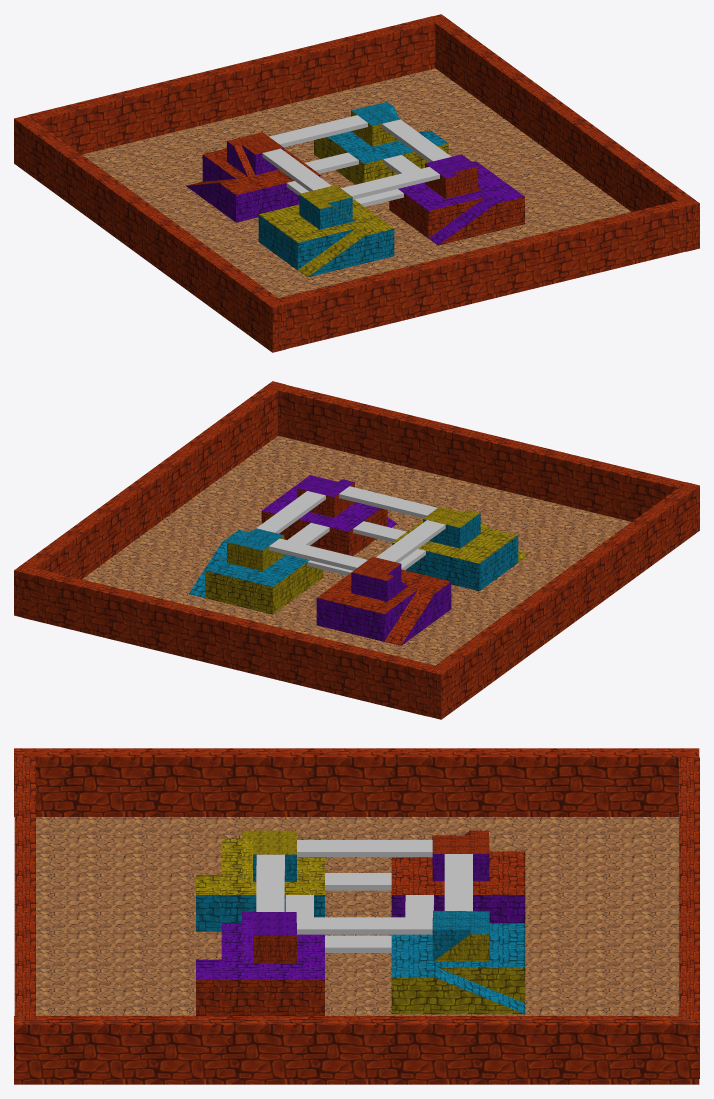
The model's file is fort.FBX.
3 views of the same model, one above another, from view 1: azimuth 30°, elevation 25°; view 2: azimuth 150°, elevation 25°; view 3: azimuth 270°, elevation 25° (orthographic). The views are drawn at different scales.
Visible parts, largest first — view 1: Plane001, Box025, Box026, Box028, Box027, Box016, Box014, Box001, Box021, Box015, Box013, Box002 (+6 smaller); view 2: Plane001, Box026, Box025, Box028, Box027, Box001, Box021, Box016, Box014, Box002, Box020, Box015 (+7 smaller); view 3: Plane001, Box027, Box028, Box021, Box014, Box025, Box026, Box001, Box016, Box020, Box013, Box018 (+9 smaller).
Boxes of the visible parts, box(x1,y1,x2,y2) form: Plane001: box(82, 68, 630, 298); Box025: box(278, 199, 690, 348); Box026: box(28, 16, 439, 154); Box028: box(14, 115, 286, 352); Box027: box(429, 14, 699, 251); Box016: box(258, 199, 394, 277); Box014: box(389, 161, 524, 245); Box001: box(186, 148, 320, 222); Box021: box(314, 131, 448, 184); Box015: box(299, 185, 355, 229); Box013: box(425, 154, 481, 198); Box002: box(227, 132, 283, 176); Plane001: box(82, 435, 630, 665); Box026: box(22, 567, 434, 716); Box025: box(273, 383, 685, 521); Box028: box(427, 482, 699, 719); Box027: box(14, 381, 285, 617); Box001: box(316, 569, 451, 645); Box021: box(189, 530, 323, 614); Box016: box(392, 507, 527, 591); Box014: box(261, 475, 396, 556); Box002: box(351, 556, 407, 601); Box020: box(227, 528, 284, 571); Box015: box(423, 507, 480, 548); Plane001: box(36, 817, 678, 1015); Box027: box(14, 1016, 699, 1084); Box028: box(14, 748, 699, 816); Box021: box(391, 923, 525, 1014); Box014: box(196, 923, 324, 1015); Box025: box(14, 757, 35, 1019); Box026: box(679, 757, 699, 1078); Box001: box(391, 851, 525, 923); Box016: box(196, 838, 324, 931); Box020: box(432, 911, 489, 961); Box013: box(242, 912, 296, 963); Box018: box(297, 840, 432, 857).
Size of the model in its own units: 3136 by 338 by 3287.
